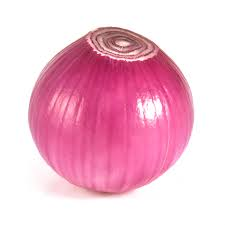onion: (27, 26, 195, 194)
